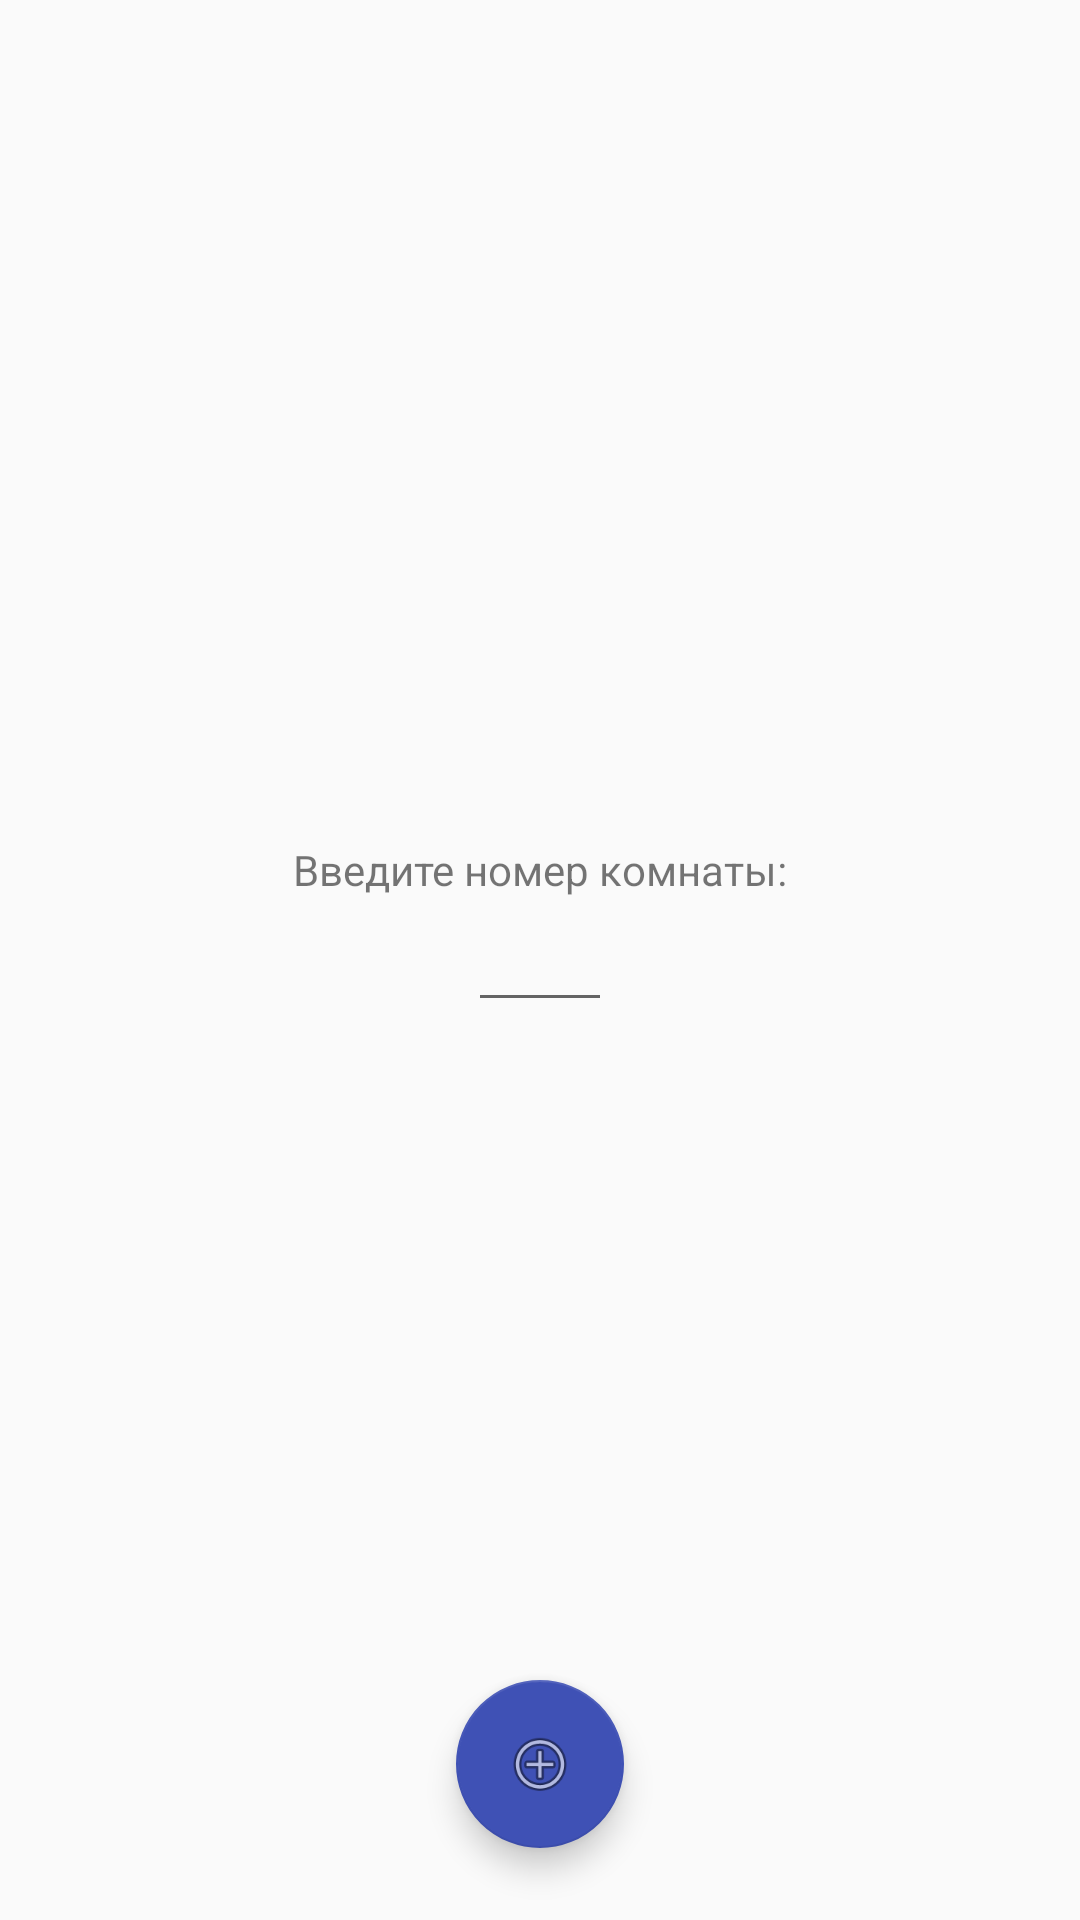

Named icons in this screenshot (1080 x 1920) and their centers, (x,y):
add: (540,1764)
